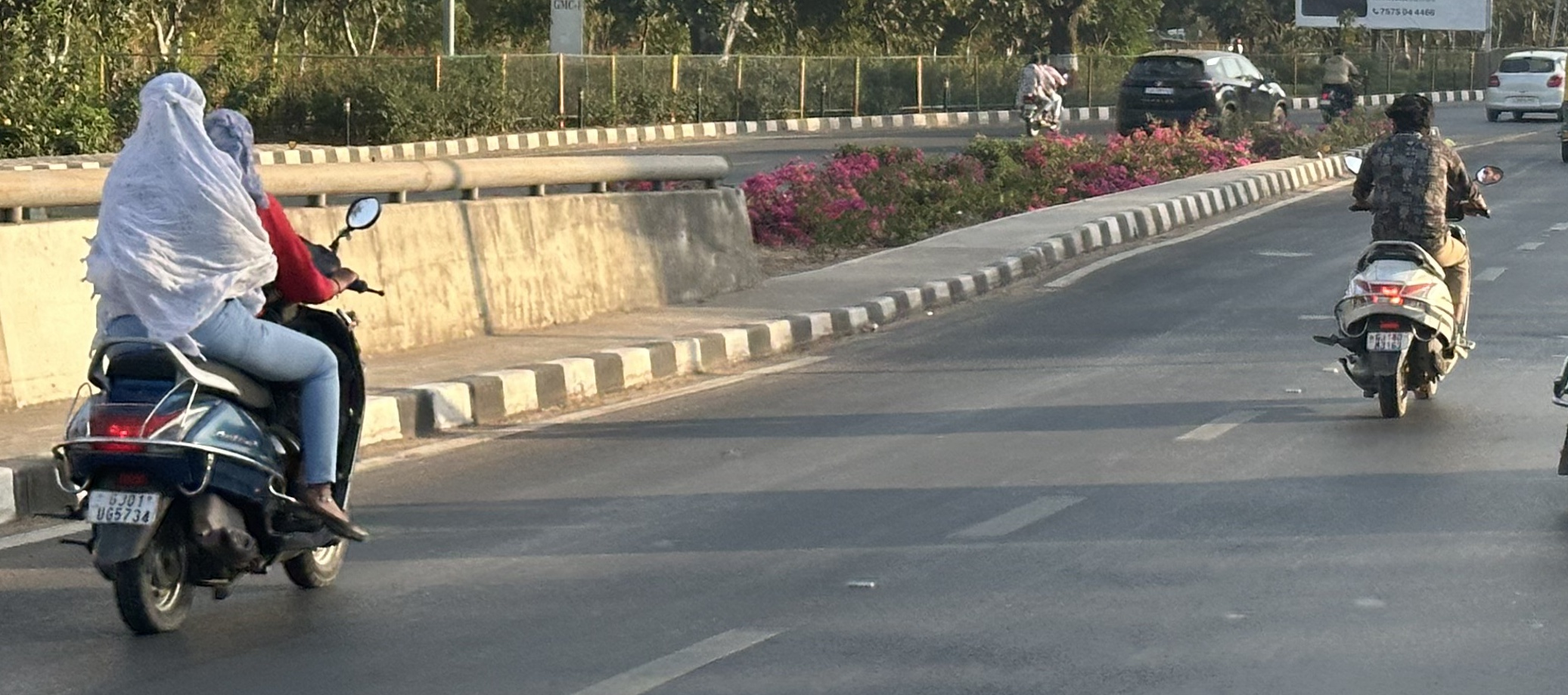BikeWithRider: (59, 60, 413, 641), (1303, 69, 1513, 426)
NoHelmet: (123, 66, 216, 165), (194, 100, 262, 195), (1371, 85, 1448, 140)
